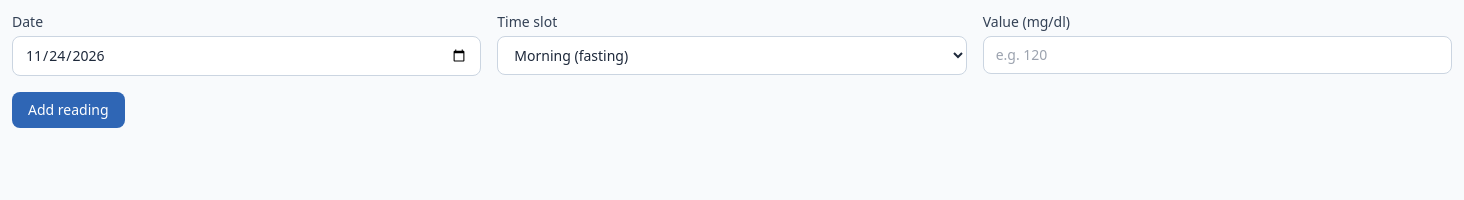
Test: ReadingForm › shows the required-value error when submitted empty
Click the button "Add reading": (68, 110) [12,92,124,128]
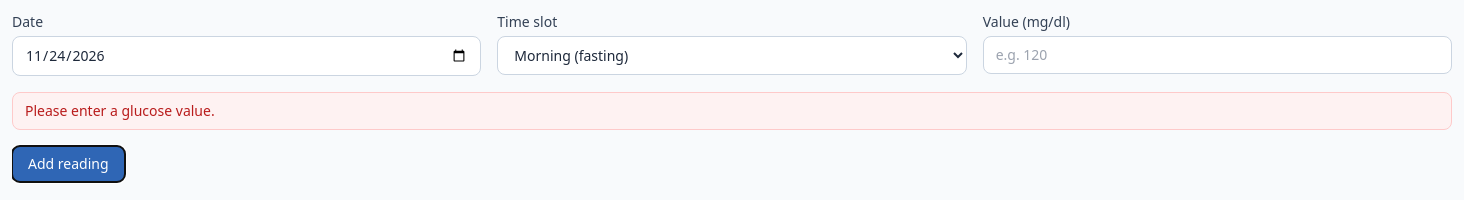
Check: the message reads "Please enter a glucose value.", box [25,101,215,120]
